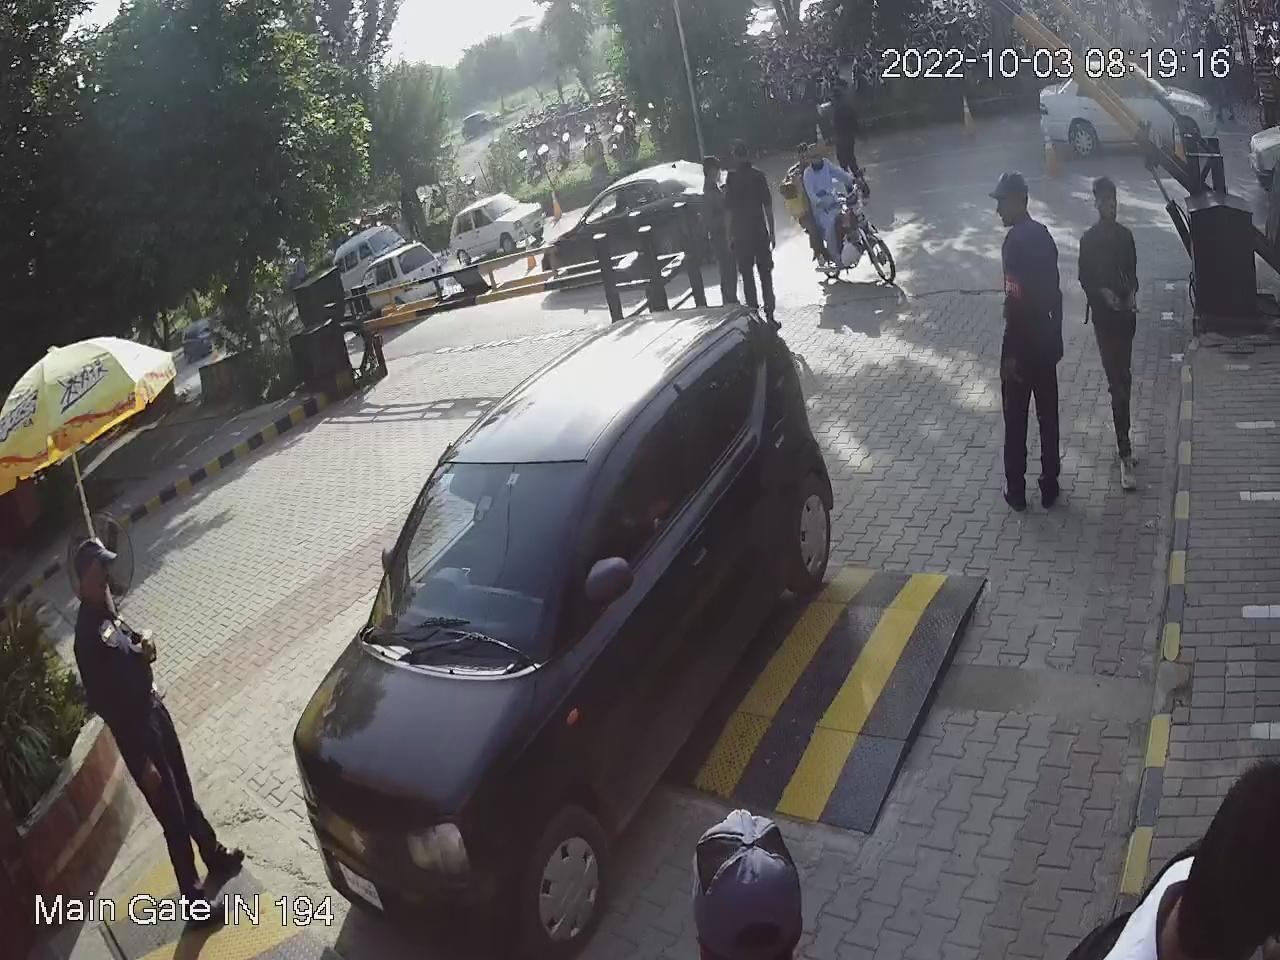windshield: (363, 458, 596, 665)
